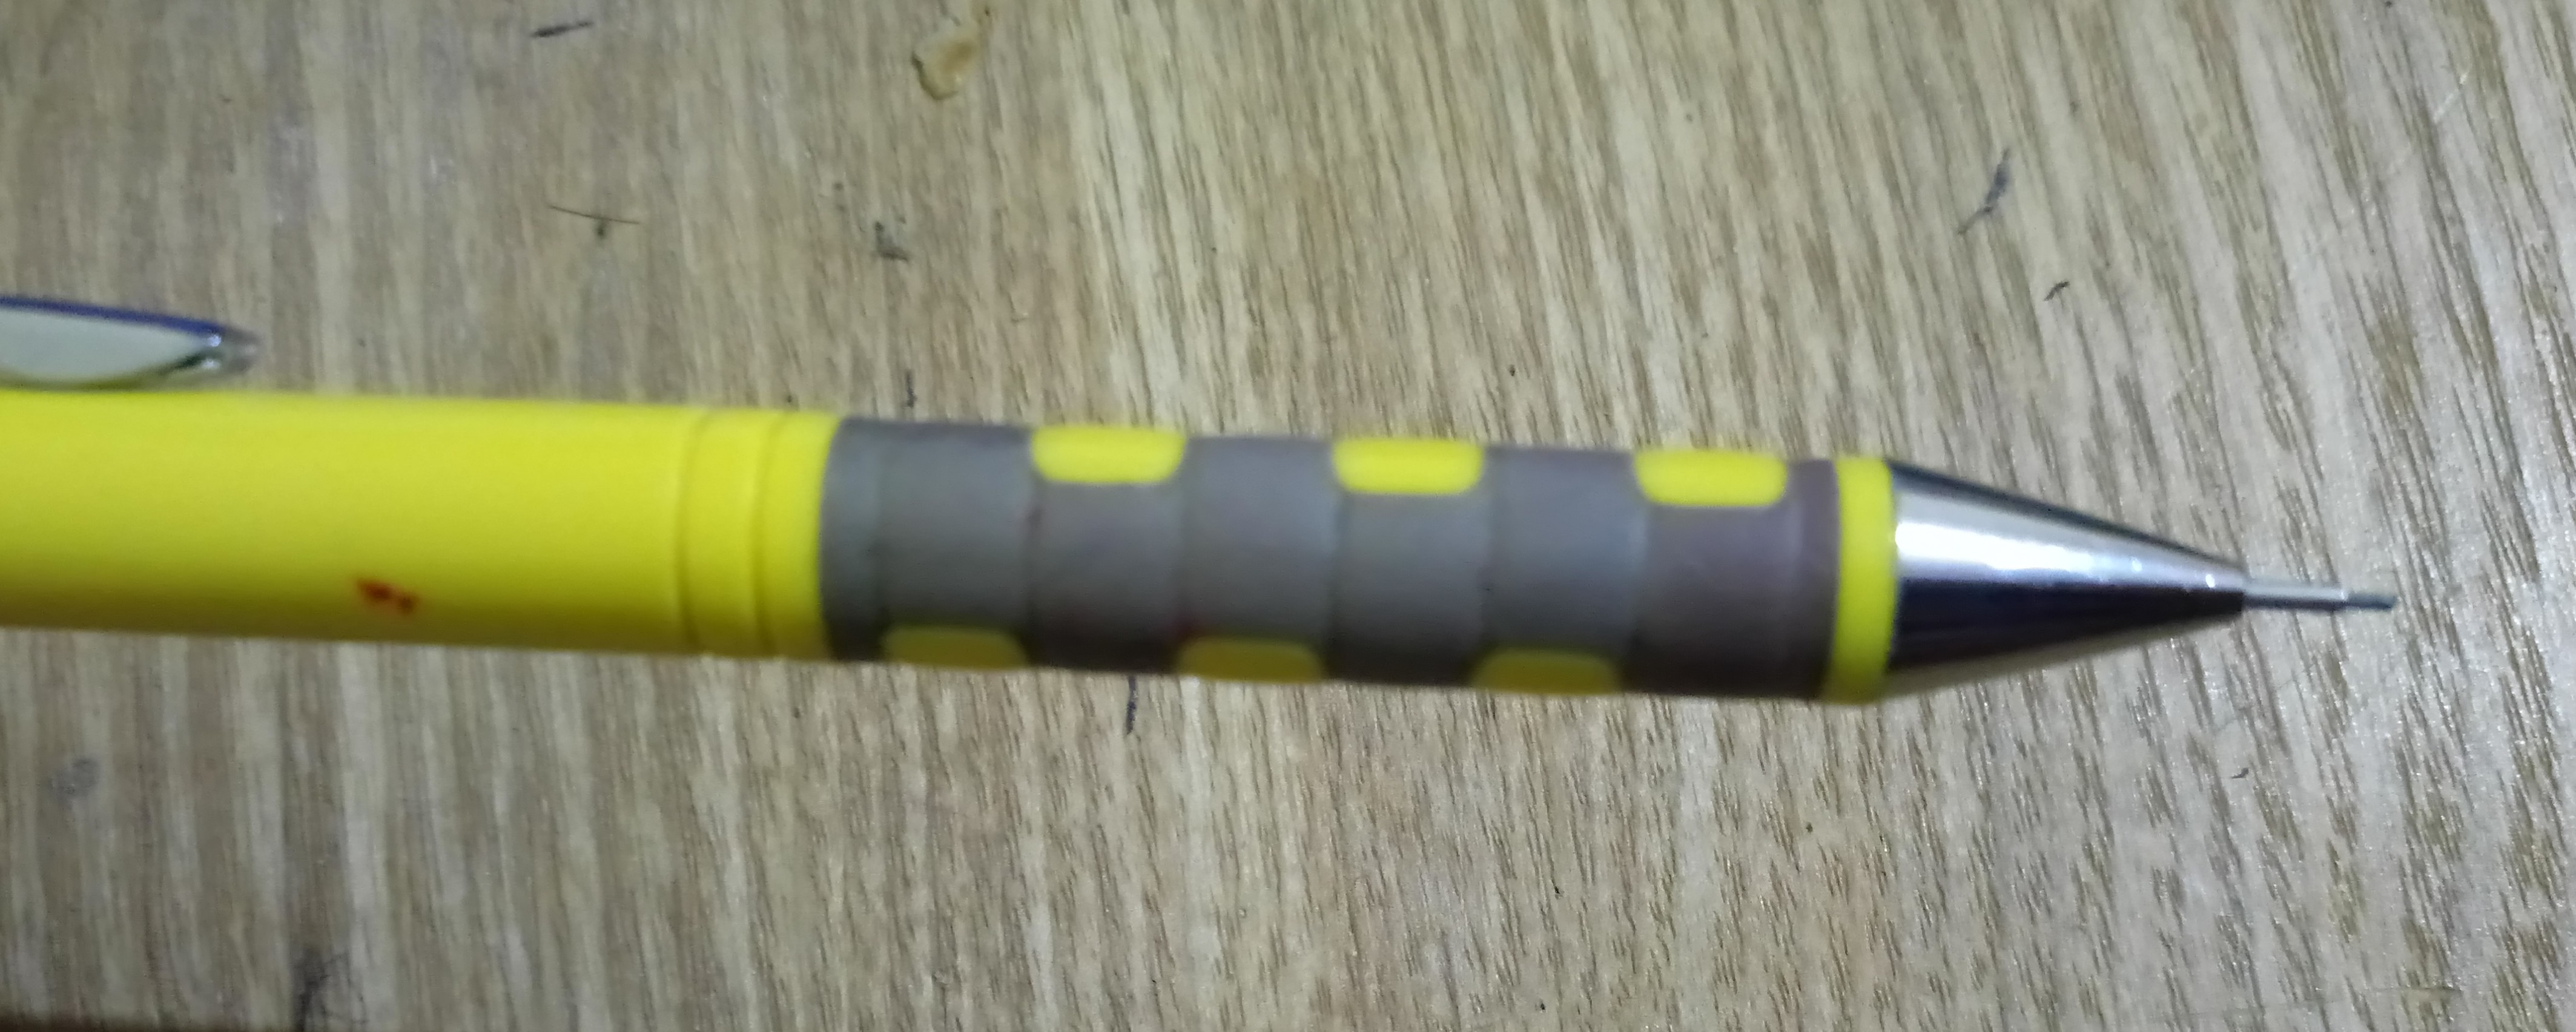pen_tip: (1791, 368, 2469, 769)
